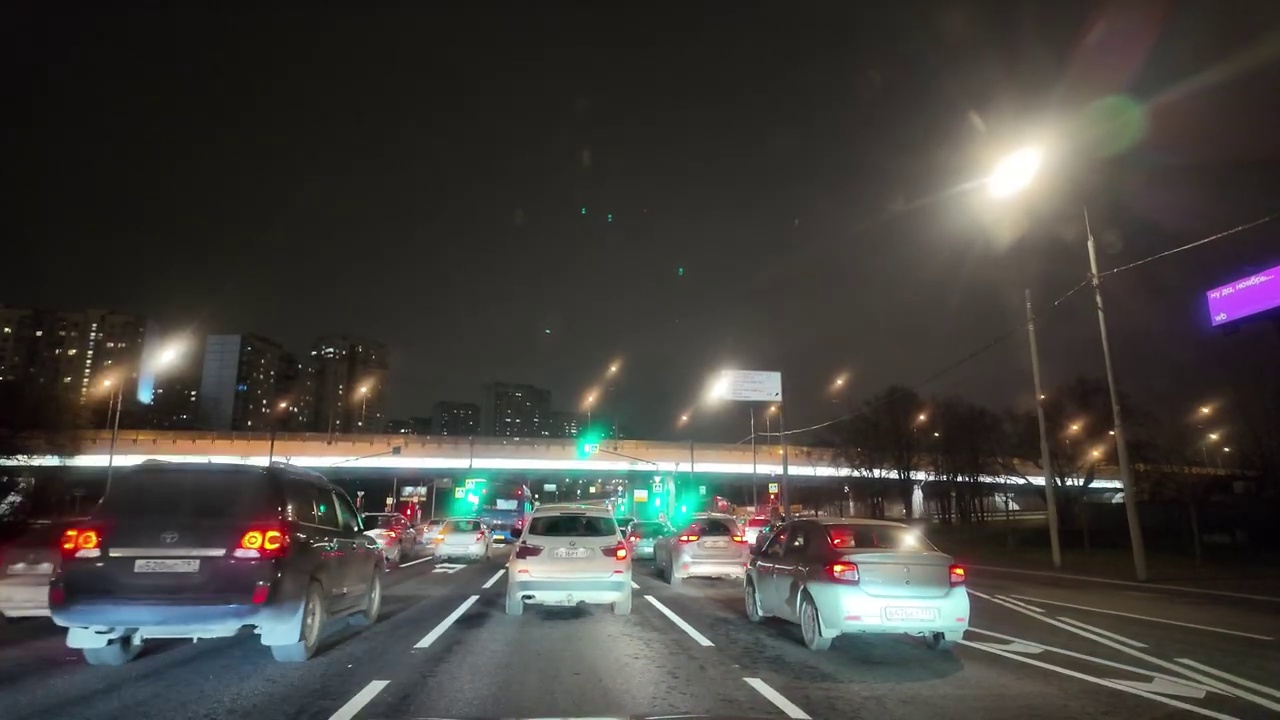acesa: (984, 140, 1056, 205), (145, 334, 191, 381), (700, 365, 739, 412)
